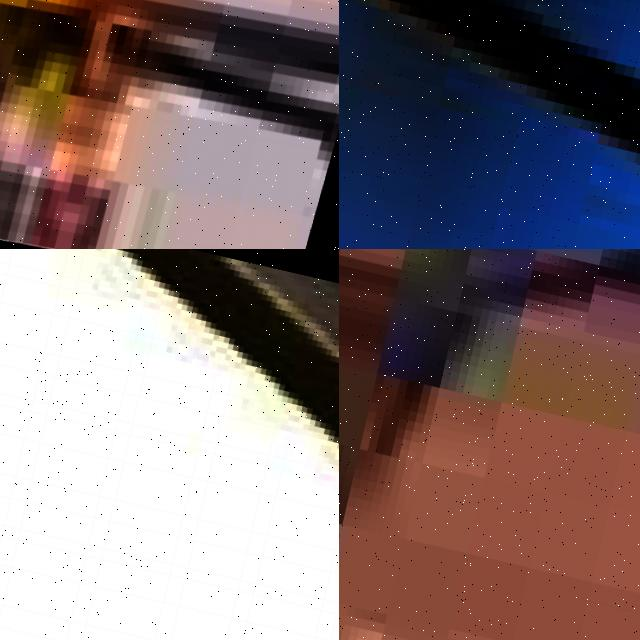drone: (0, 0, 339, 249)
